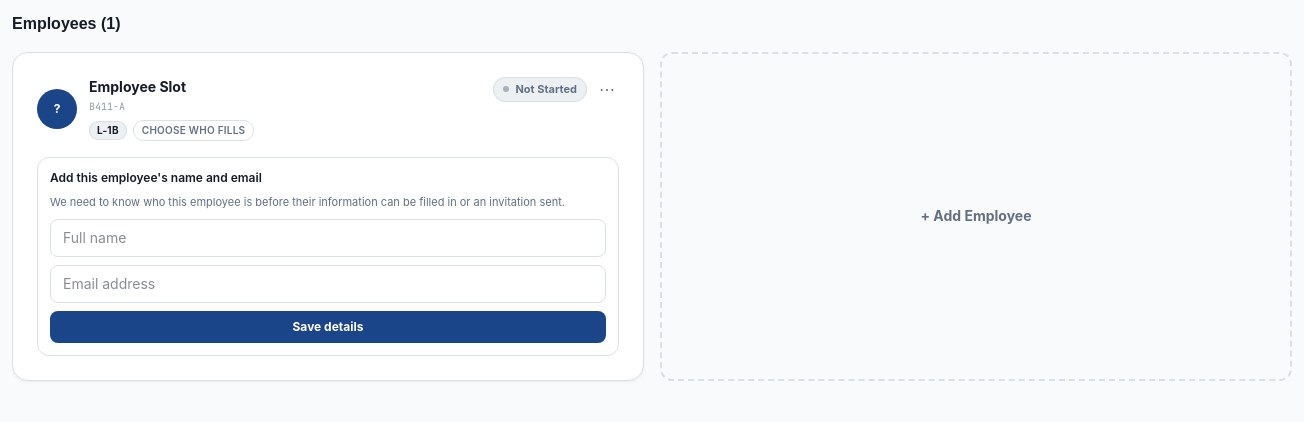
Test: Employee card: name and email › a server refusal (for example a duplicate email) is shown and nothing is reported as saved
In the field named "Employee email": (328, 284) [50,264,606,302], type "dup@example.com"
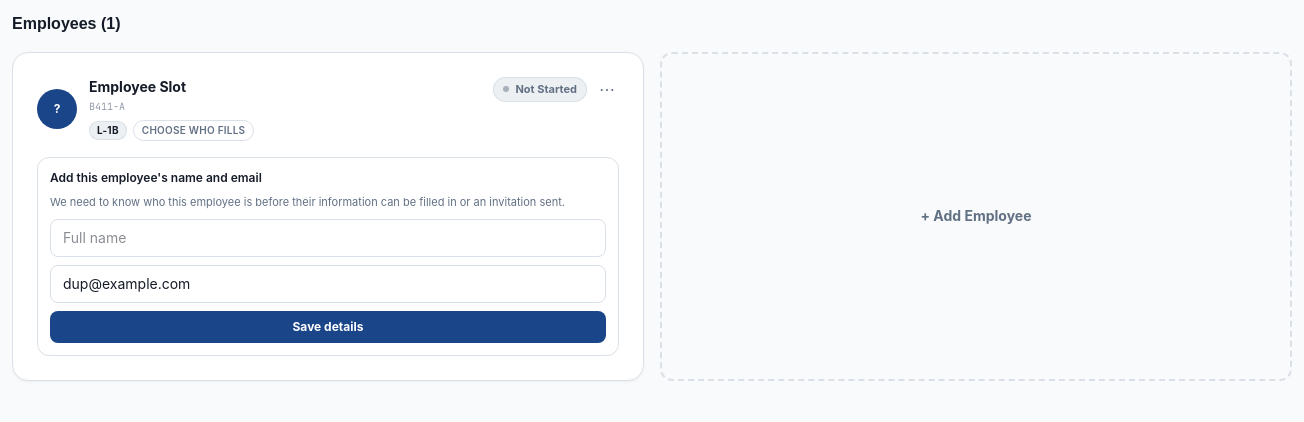
Click the button "Save details": (328, 326) [50,310,606,342]
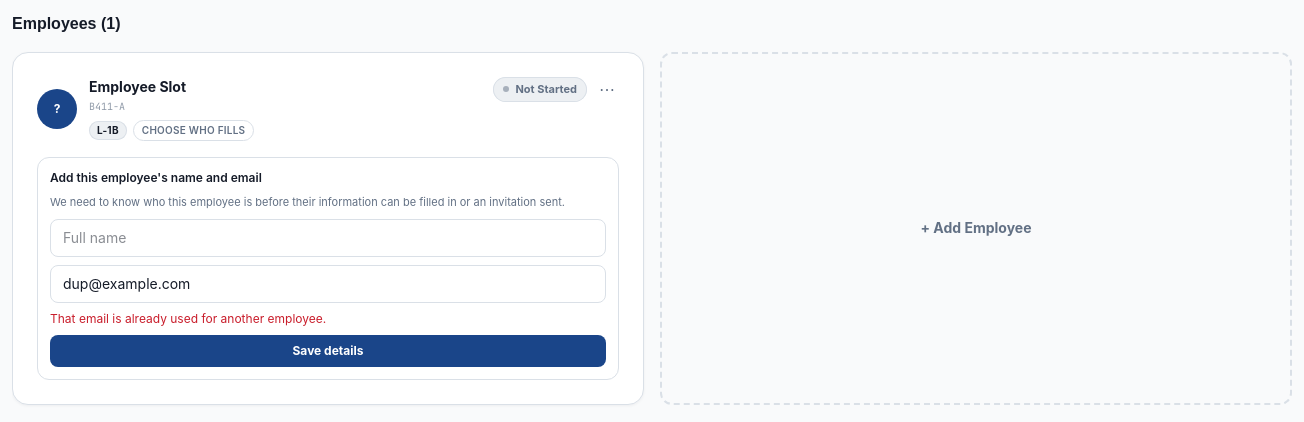
Result: the text "That email is already used for another employee." is shown at [50,310,326,326]
